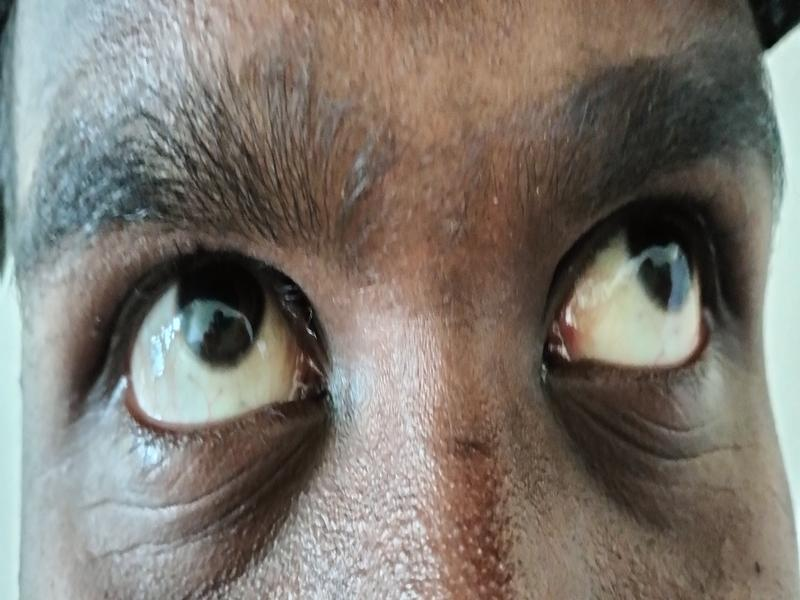EYE UP: (130, 274, 298, 424), (555, 226, 713, 364)
